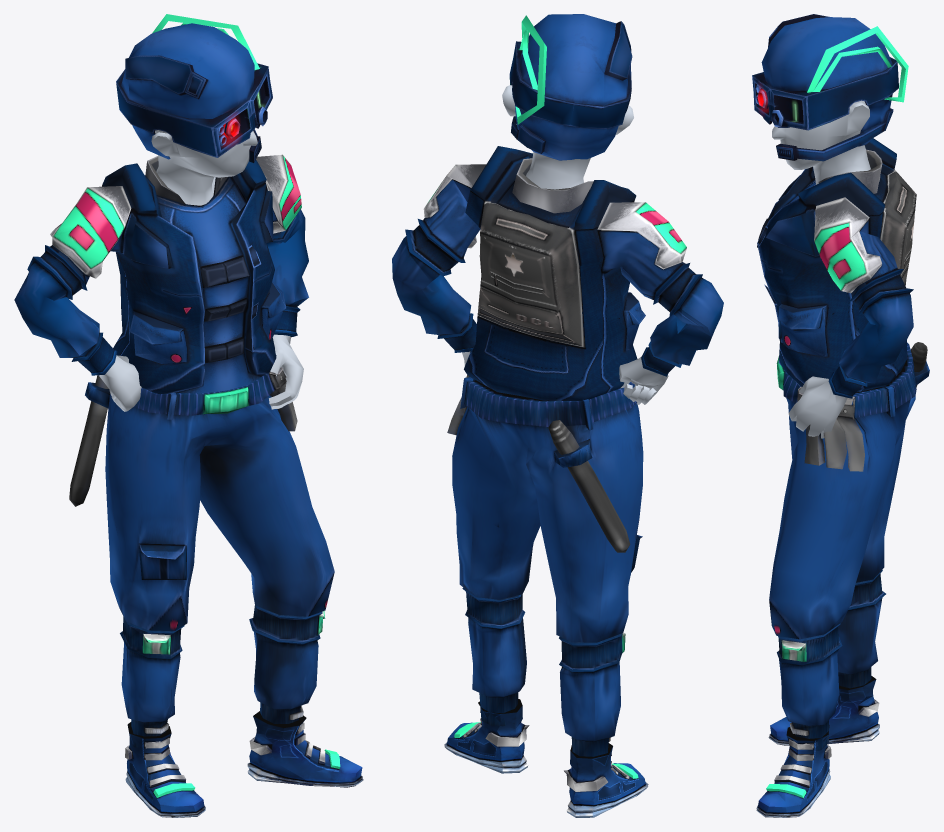
Rendered from F_police_pose.gltf.
3 renders of one model, left to right at view 1: azimuth 30°, elevation 25°; view 2: azimuth 150°, elevation 25°; view 3: azimuth 270°, elevation 25°, orthographic. The views are drawn at different scales.
Parts seen in each view (by area): view 1: F_police_lower, F_police_upper, F_police_hat, F_police_feet; view 2: F_police_upper, F_police_lower, F_police_hat, F_police_feet; view 3: F_police_lower, F_police_upper, F_police_hat, F_police_feet.
Part boxes in pixels (x1=…): F_police_lower: x1=69, y1=367, x2=334, y2=747; F_police_upper: x1=14, y1=154, x2=308, y2=411; F_police_hat: x1=116, y1=14, x2=272, y2=205; F_police_feet: x1=125, y1=711, x2=363, y2=817; F_police_upper: x1=392, y1=146, x2=723, y2=404; F_police_lower: x1=447, y1=375, x2=643, y2=766; F_police_hat: x1=502, y1=14, x2=633, y2=189; F_police_feet: x1=444, y1=699, x2=648, y2=817; F_police_lower: x1=769, y1=342, x2=929, y2=750; F_police_upper: x1=757, y1=138, x2=916, y2=438; F_police_hat: x1=752, y1=14, x2=908, y2=184; F_police_feet: x1=756, y1=676, x2=879, y2=817.
Size of the model in its own units: 1.53 by 3.66 by 0.8091.
2 materials, 1 textured.
